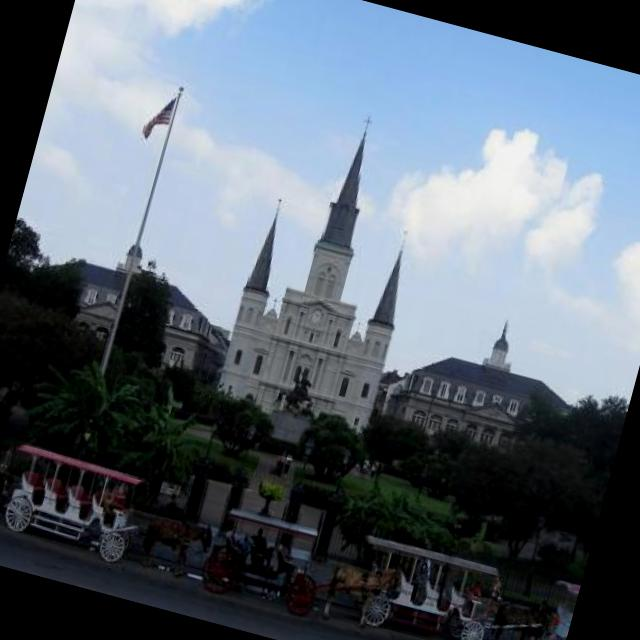Person: (330, 451, 458, 575), (263, 534, 296, 576), (484, 574, 508, 619), (235, 528, 260, 565), (247, 523, 273, 558), (99, 478, 124, 514), (460, 577, 479, 611), (0, 441, 16, 468), (282, 452, 296, 478), (278, 448, 290, 477), (273, 452, 285, 476), (536, 596, 552, 613), (370, 554, 385, 572), (371, 457, 382, 479)
